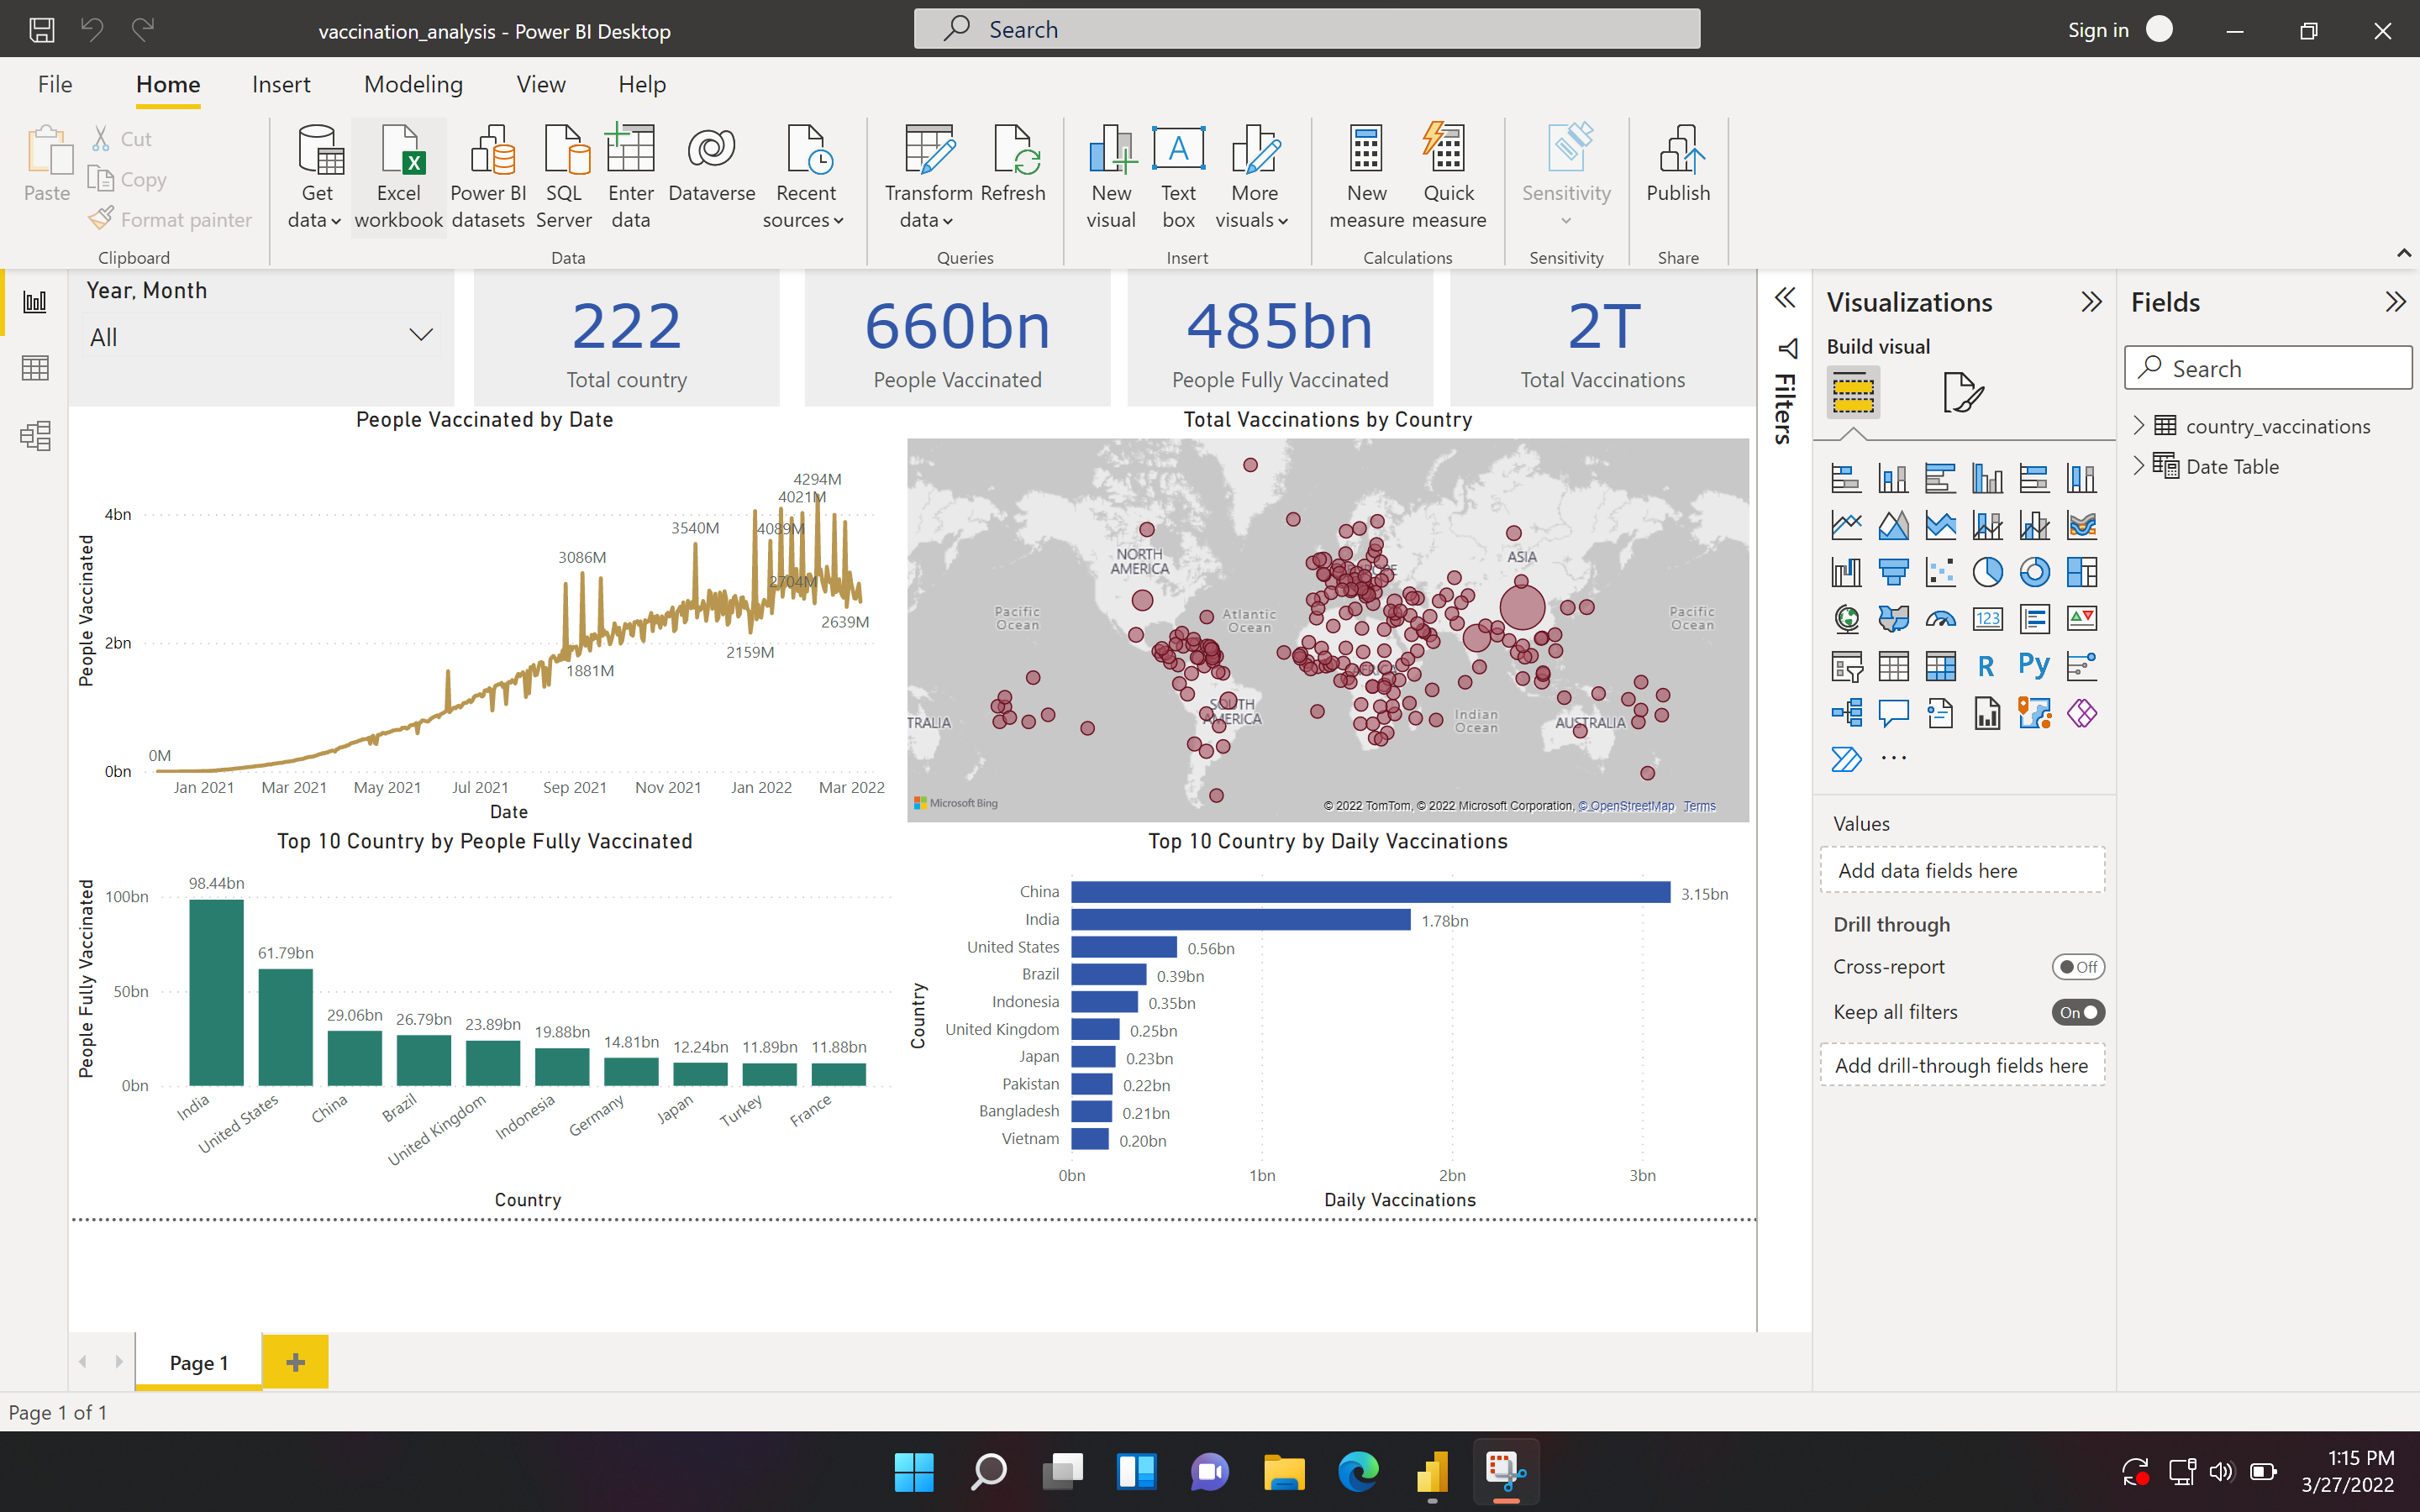

Layout of this report page (visuals, bound fields, positions):
{"tool":"powerbi","page":{"name":"Page 1","canvas":[1280,720],"ordinal":0},"visuals":[{"type":"card","fields":{"Values":["Sum(country_vaccinations.People Fully Vaccinated)"]},"box":[803.2,0,232,104.5],"z":0},{"type":"card","fields":{"Values":["Count(country_vaccinations.country)"]},"box":[307.3,0,232,104.5],"z":1},{"type":"textbox","box":[0,425,279,150],"z":3},{"type":"card","fields":{"Values":["Sum(country_vaccinations.People Vaccinated)"]},"box":[558.4,0,232,104.5],"z":4},{"type":"card","fields":{"Values":["Sum(country_vaccinations.Total Vaccinations)"]},"box":[1048,0,232,104.5],"z":5},{"type":"slicer","fields":{"Values":["Date Table.Date.Variation.Date Hierarchy.Year","Date Table.Date.Variation.Date Hierarchy.Month"]},"box":[0,0,292.6,104.8],"z":6},{"type":"lineChart","fields":{"Category":["country_vaccinations.Date"],"Y":["Sum(country_vaccinations.People Vaccinated)"]},"box":[0,104.8,631.3,320.3],"z":7},{"type":"clusteredColumnChart","title":"Top 10 Country by People Fully Vaccinated","fields":{"Category":["country_vaccinations.country"],"Y":["Sum(country_vaccinations.People Fully Vaccinated)"]},"box":[0,425.1,631.3,294.9],"z":8},{"type":"clusteredBarChart","title":"Top 10 Country by Daily Vaccinations","fields":{"Category":["country_vaccinations.Country"],"Y":["Sum(country_vaccinations.Daily Vaccinations)"]},"box":[631.3,425.1,648.6,294.9],"z":9},{"type":"map","fields":{"Category":["country_vaccinations.Country"],"Size":["Sum(country_vaccinations.Total Vaccinations)"]},"box":[631.3,104.8,648.6,320.3],"z":10}]}

Visuals, with their boxes on the page's 1280x720 design canvas (x1, y1, x2, y2). These are canvas units, not pixel positions in the 2420x1512 screenshot, which may show the page scaled, cropped or inside an application window:
card - Sum(country_vaccinations.People Fully Vaccinated): box=[803, 0, 1035, 104]
card - Count(country_vaccinations.country): box=[307, 0, 539, 104]
textbox: box=[0, 425, 279, 575]
card - Sum(country_vaccinations.People Vaccinated): box=[558, 0, 790, 104]
card - Sum(country_vaccinations.Total Vaccinations): box=[1048, 0, 1280, 104]
slicer - Date Table.Date.Variation.Date Hierarchy.Year x Date Table.Date.Variation.Date Hierarchy.Month: box=[0, 0, 293, 105]
lineChart - country_vaccinations.Date x Sum(country_vaccinations.People Vaccinated): box=[0, 105, 631, 425]
"Top 10 Country by People Fully Vaccinated" clusteredColumnChart: box=[0, 425, 631, 720]
"Top 10 Country by Daily Vaccinations" clusteredBarChart: box=[631, 425, 1280, 720]
map - country_vaccinations.Country x Sum(country_vaccinations.Total Vaccinations): box=[631, 105, 1280, 425]
